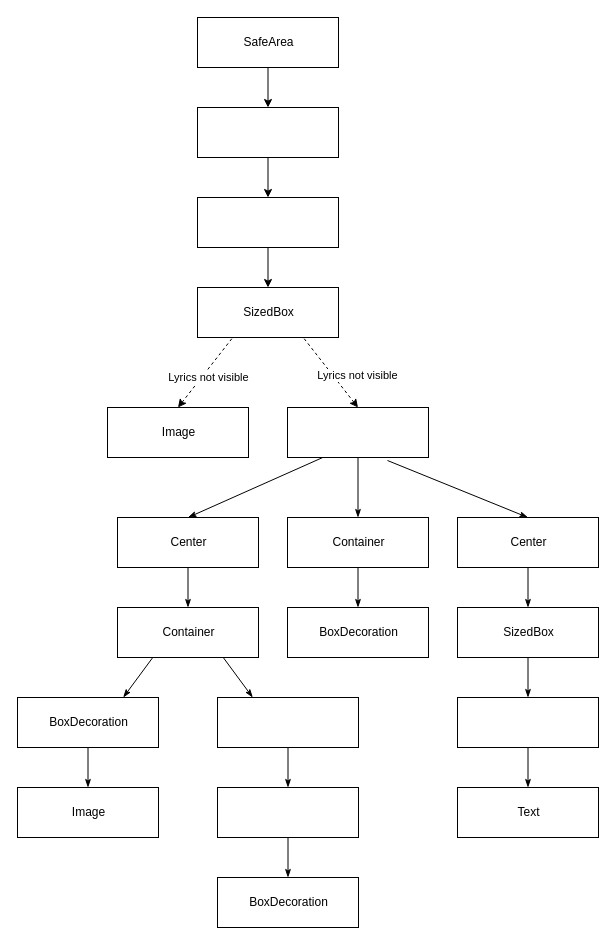
The diagram is 616 pixels wide and 945 high, and some of its shapes have lost their labels. The box of each missing label's shape, as (x1, y1, x2, y2) in pixels:
BackdropFilter: (216, 786, 358, 838)
ClipRect: (216, 696, 358, 748)
GestureDetector: (196, 196, 338, 248)
OrientationBuilder: (196, 106, 338, 158)
SingleChildScrollView: (456, 696, 598, 748)
Stack: (286, 406, 428, 458)
